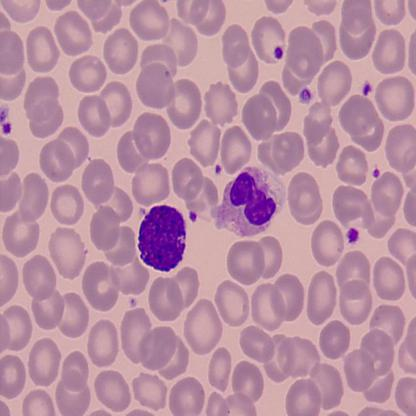Basophil: (136, 202, 188, 273)
